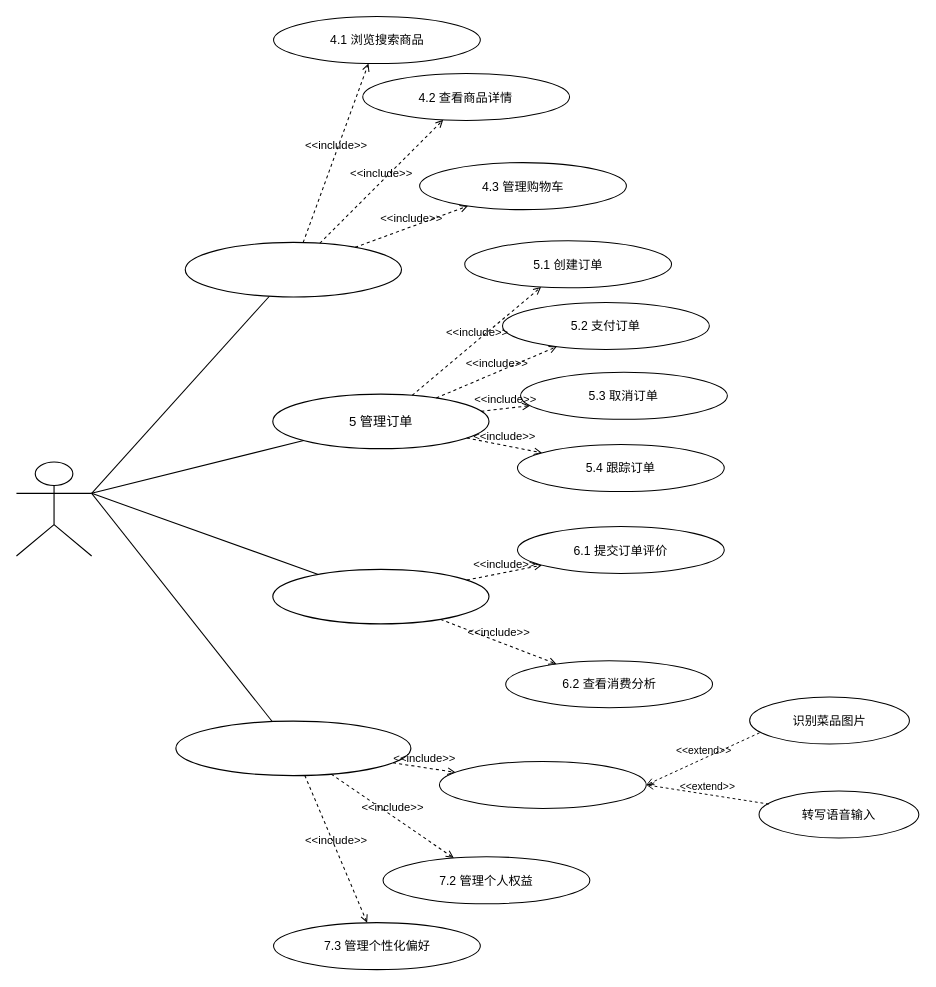
Image size: 936x987. Some labels were removed from this diagram. Here are the shapes that lost their labels. From the top down, the centre of each, then its label:
the point at 293,269: 4 选购店铺商品
the point at 53,508: 顾客
the point at 380,596: 6 管理评价与消费
the point at 293,748: 7 使用智能与个性化服务
the point at 542,784: 7.1 使用 AI 点餐
